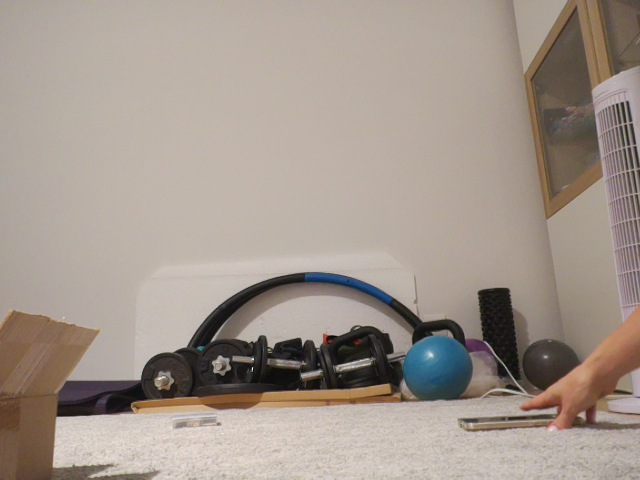arm: (520, 309, 640, 451)
ball: (513, 326, 582, 396), (403, 336, 472, 400)
mobilephone: (458, 414, 554, 430)
weight: (296, 332, 409, 396), (232, 356, 254, 362)
